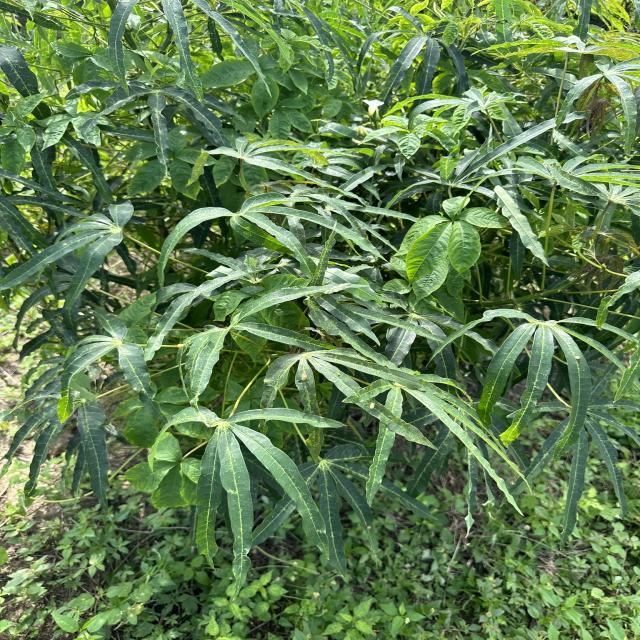Maleza: (20, 543, 435, 640), (354, 559, 640, 640), (395, 191, 499, 292), (364, 102, 463, 171), (138, 422, 196, 513), (214, 140, 276, 195)
Mosca: (298, 367, 317, 386), (362, 394, 377, 412), (568, 349, 584, 364), (174, 337, 189, 351), (336, 368, 346, 380)
